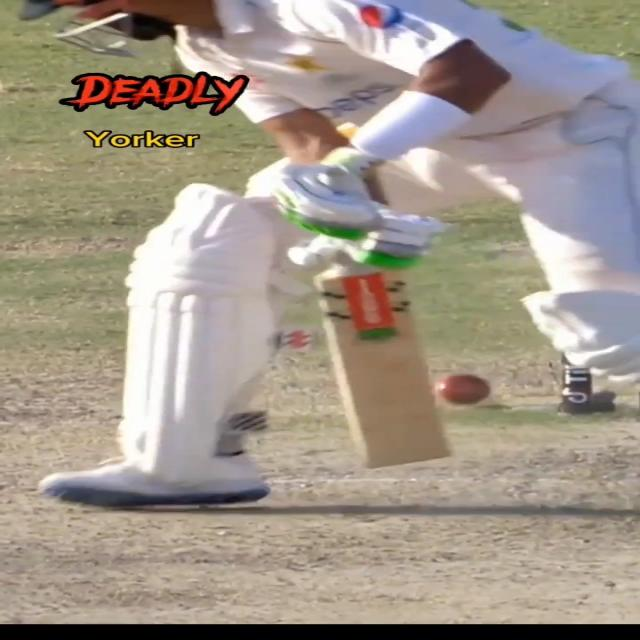Cricket ball: (436, 372, 498, 408)
